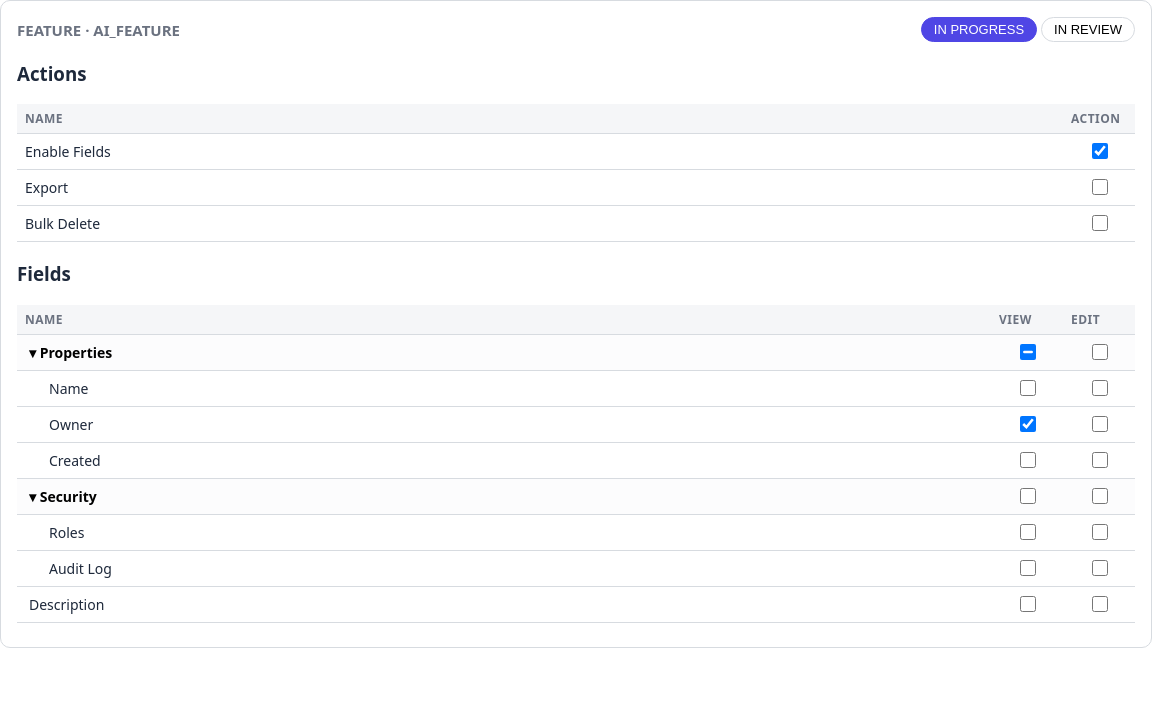
Test case: CheckboxPageContainer (§3, end-to-end UI) › switches status without losing the other status’ state
The width and height of the screenshot is (1152, 720).
Step 1. Click the checkbox named "Description edit" → (1100, 604), box x1=1092 y1=596 x2=1108 y2=612
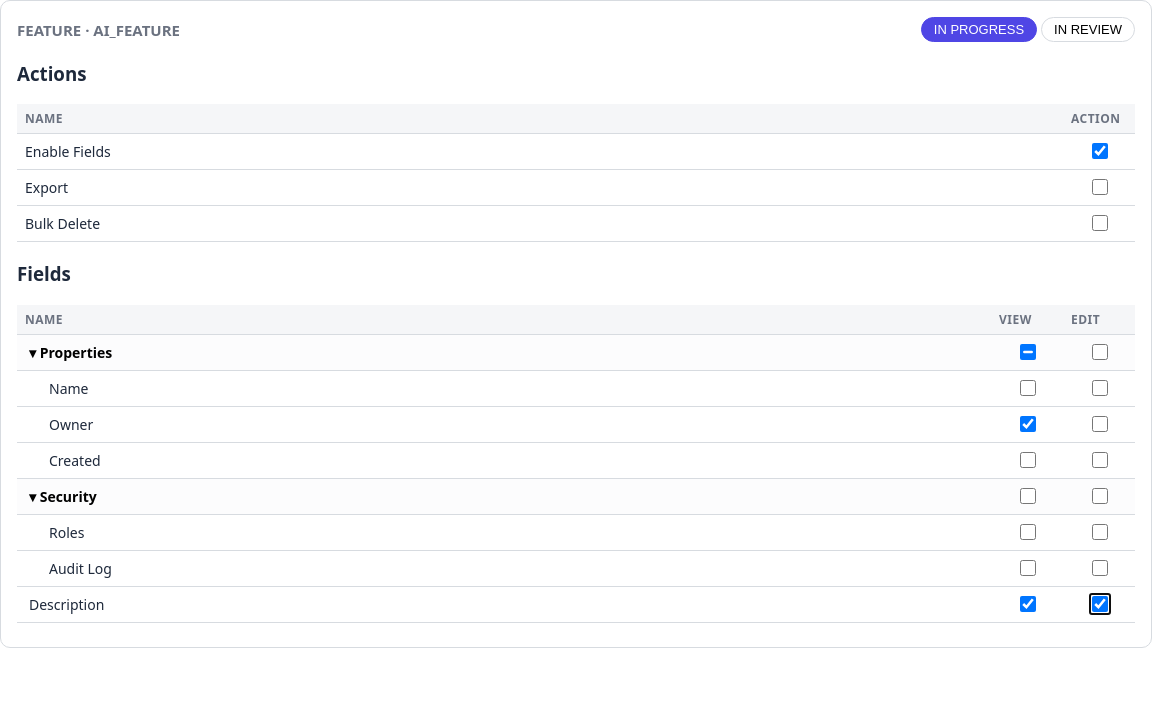
Step 2. Click the tab "IN REVIEW" → (1088, 30), box x1=1041 y1=17 x2=1135 y2=42
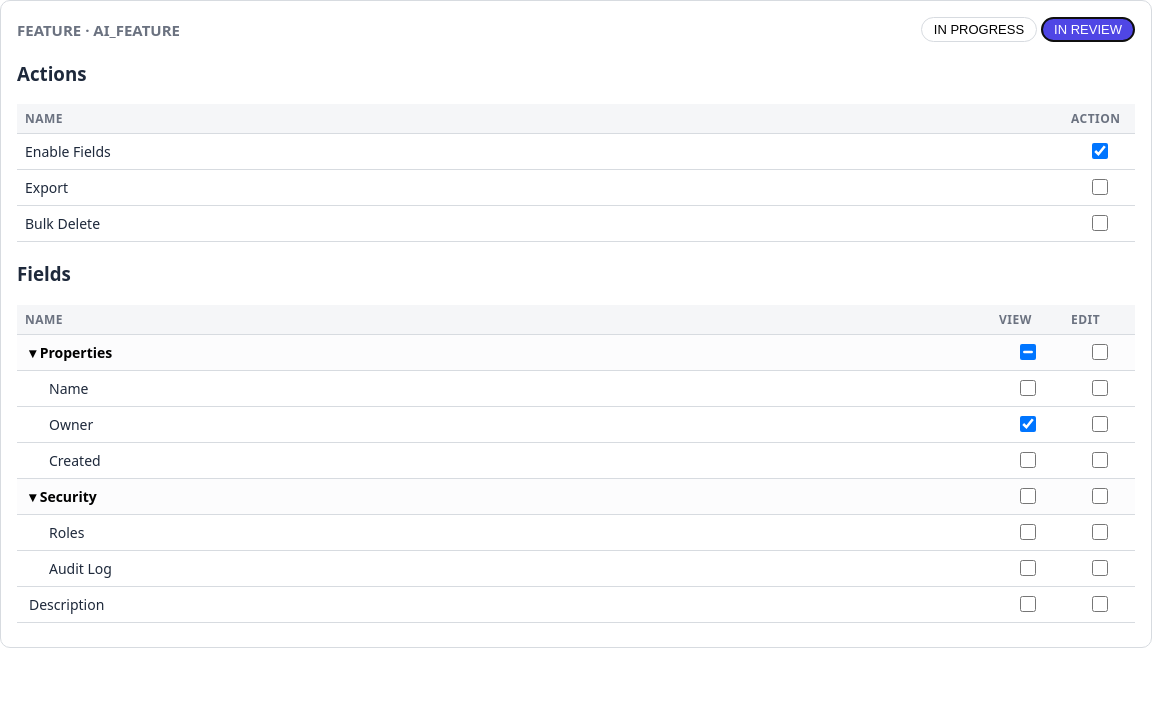
Expected: the checkbox named "Description edit" is not checked, x1=1092 y1=596 x2=1108 y2=612
